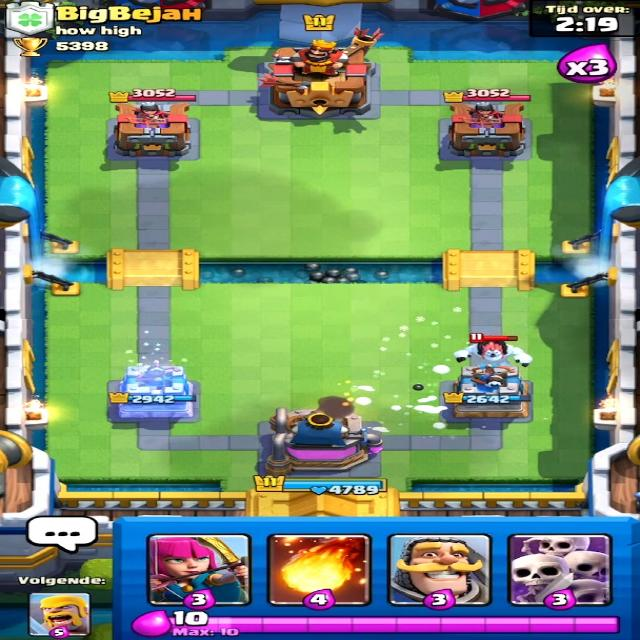Enemy_Ice_Golem_Troop: (454, 339, 530, 368)
Fireball_Card: (271, 536, 366, 607)
